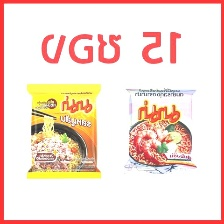snack: (18, 77, 108, 185), (118, 75, 205, 183)
